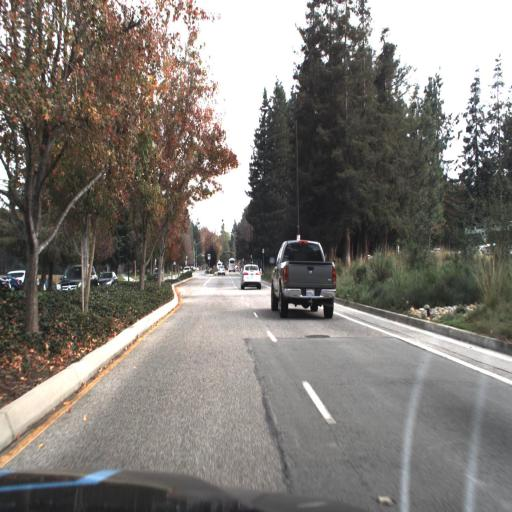car: (268, 238, 337, 315), (57, 263, 97, 292), (238, 259, 262, 294), (97, 267, 121, 293), (6, 267, 28, 286)
